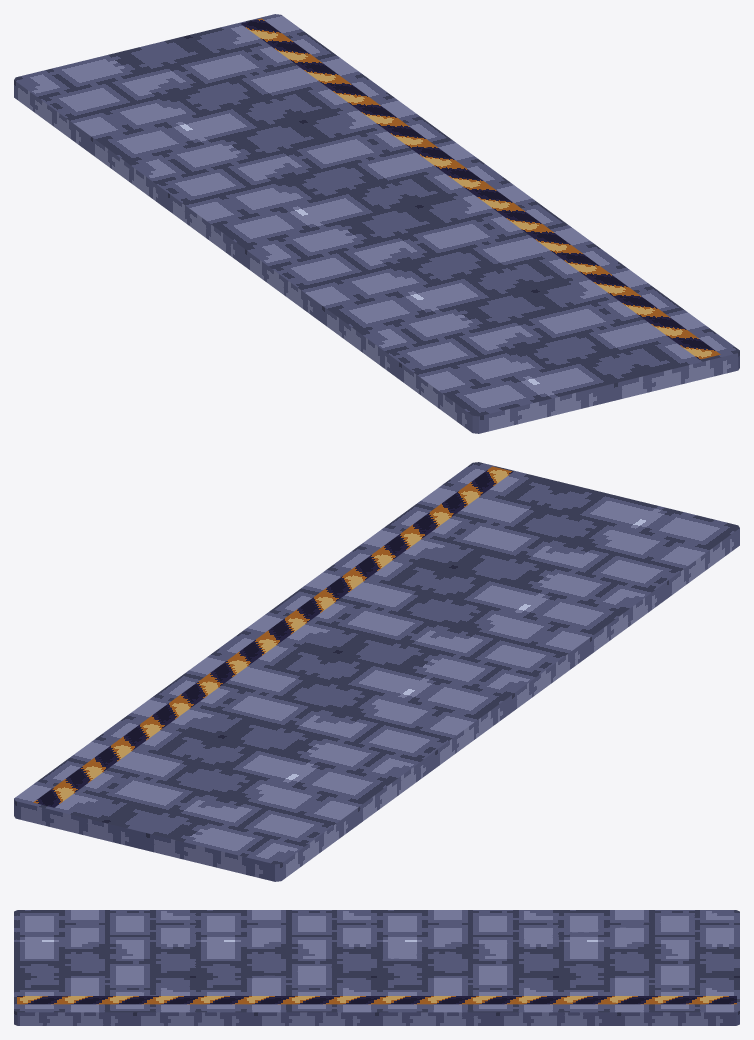
File: cyroom.platform.glb
3 renders of one model, top to bottom at view 1: azimuth 30°, elevation 25°; view 2: azimuth 150°, elevation 25°; view 3: azimuth 270°, elevation 25°, orthographic. The views are drawn at different scales.
Visible parts, largest first — view 1: kit_platform, kit_card_coping; view 2: kit_platform, kit_card_coping; view 3: kit_platform, kit_card_coping.
Part boxes in pixels (x1,y1,x2,y2): kit_platform: (14, 14, 739, 433); kit_card_coping: (240, 18, 720, 359); kit_platform: (14, 462, 739, 881); kit_card_coping: (33, 466, 513, 807); kit_platform: (14, 910, 739, 1025); kit_card_coping: (17, 996, 736, 1004).
Bounding box in the file's own units: 4 × 0.262 × 12.
4 materials, 4 textured.
